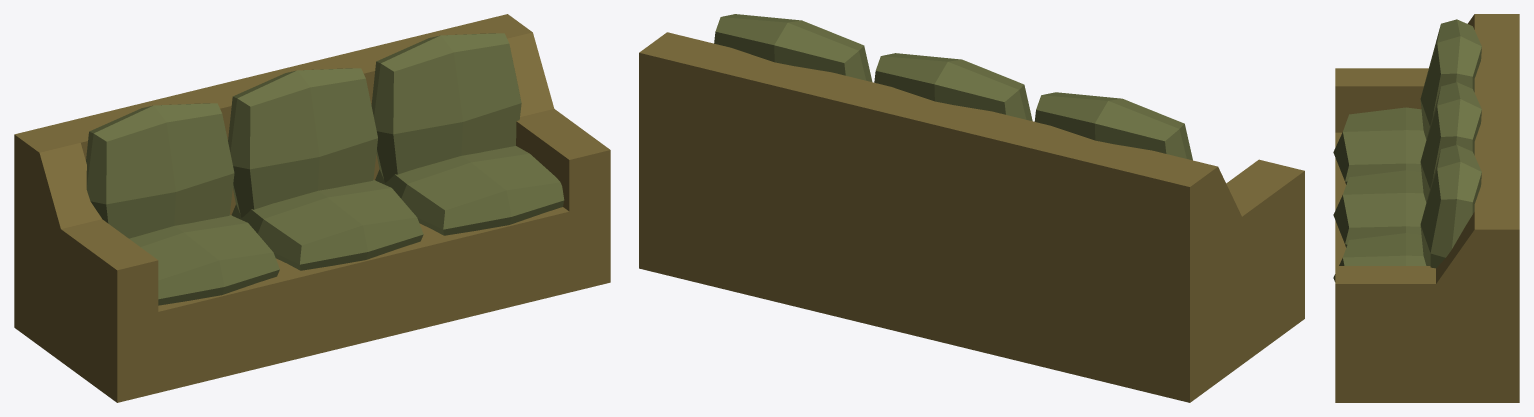
The model's file is Sofa1.glb.
3 renders of one model, left to right at view 1: azimuth 30°, elevation 25°; view 2: azimuth 150°, elevation 25°; view 3: azimuth 270°, elevation 25°, orthographic. The views are drawn at different scales.
Visible parts, largest first — view 1: Sofa1; view 2: Sofa1; view 3: Sofa1.
Boxes of the visible parts, left/top/right/bottom form: Sofa1: left=14, top=14, right=610, bottom=402; Sofa1: left=639, top=14, right=1304, bottom=402; Sofa1: left=1333, top=14, right=1519, bottom=402.
Bounding box in the file's own units: 2.99 × 1.27 × 1.09.
